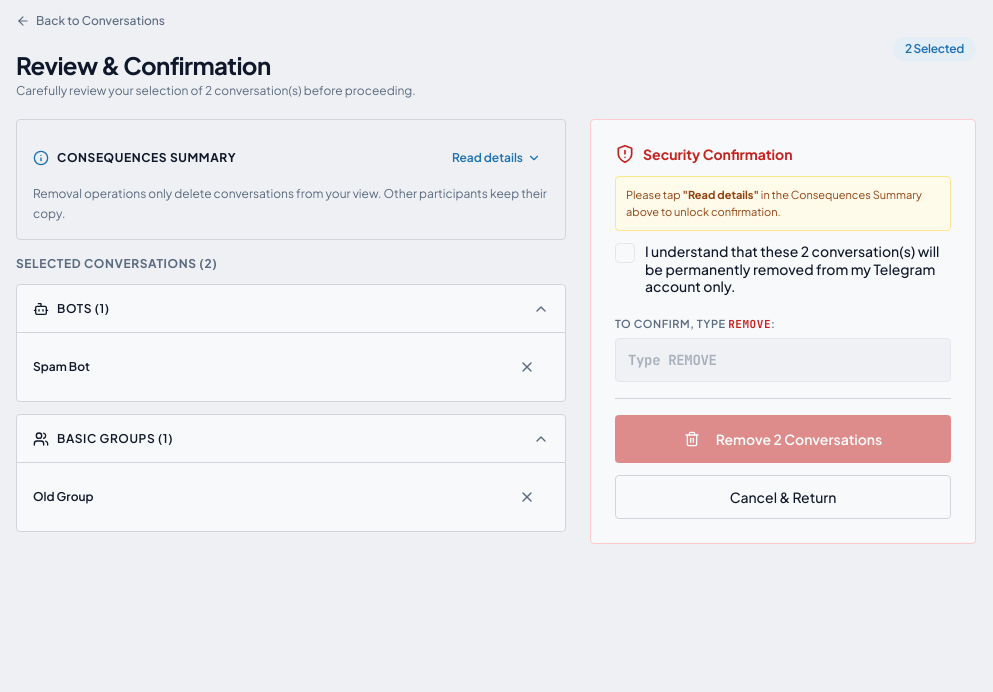
ReviewView Confirmation Gating › destructive removal button stays disabled until consequences details are read, checkbox checked, AND REMOVE text entered
The image size is (993, 692).
Expected: the button "Remove 2 Conversations" is disabled, [615,414,951,462]
# Click "Read details"
Click the button "Read details": [496, 158] box [444,136,549,180]
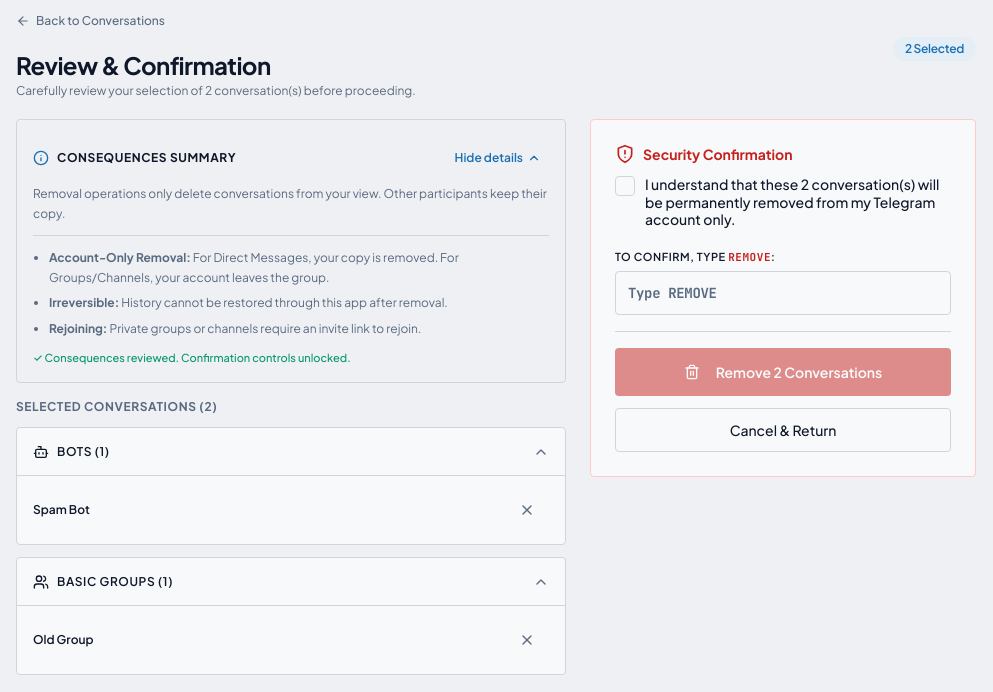
Now the checkbox is enabled
# Check only the checkbox
Click the checkbox: [625, 186] box [615,176,635,196]
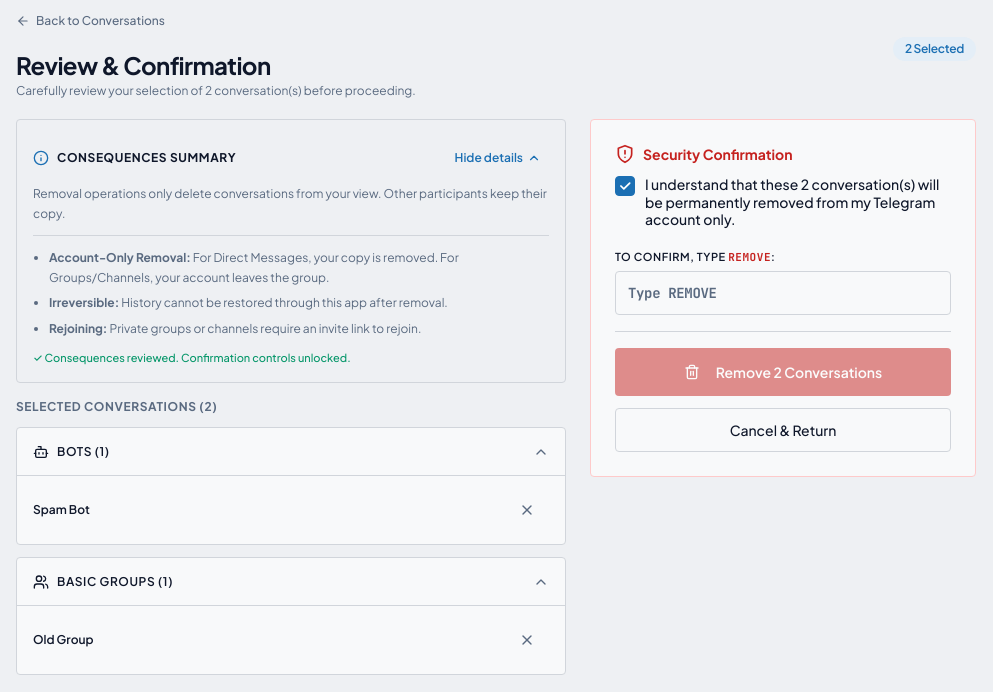
Expected: the button "Remove 2 Conversations" is disabled, [615,348,951,396]
# Type incorrect text
In the field with placeholder "type REMOVE": [783, 292] box [615,270,951,314], type "remove"
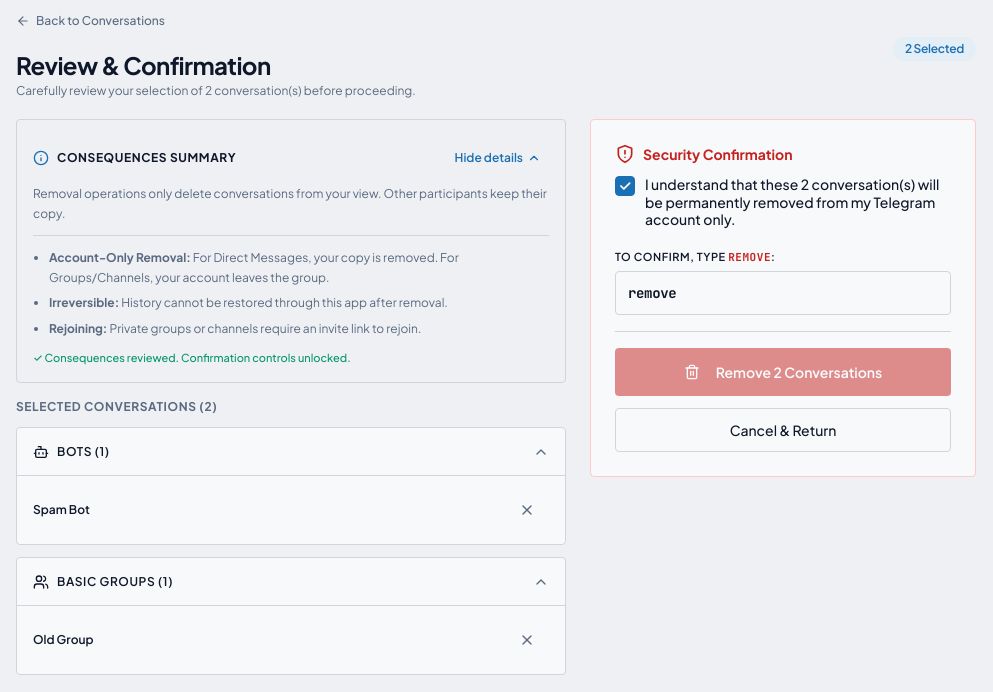
Expected: the button "Remove 2 Conversations" is disabled, [615,348,951,396]
# Type exact REMOVE
Replace the text in the field with placeholder "type REMOVE" with "REMOVE": [783, 292] box [615,270,951,314]
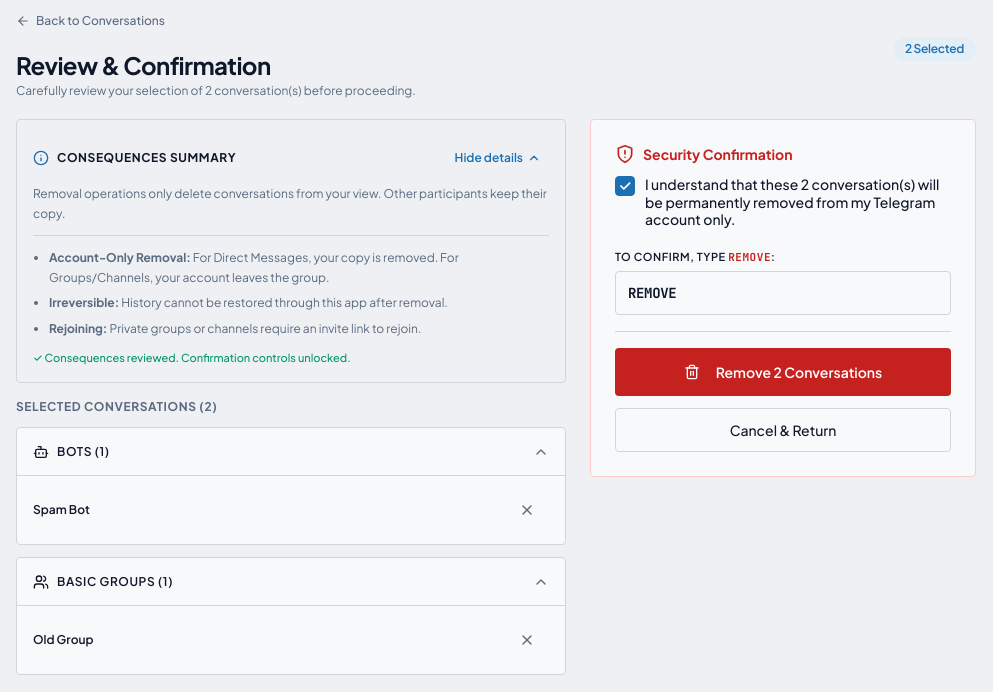
Now the button "Remove 2 Conversations" is enabled, box [615,348,951,396]
# Uncheck checkbox
Click the checkbox: [625, 186] box [615,176,635,196]
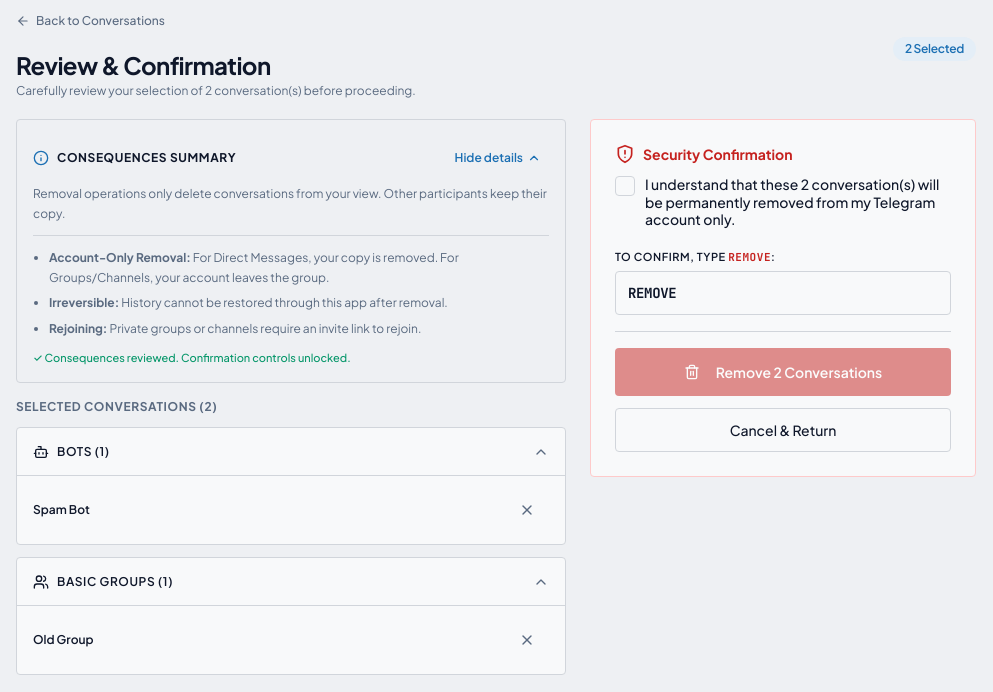
Now the button "Remove 2 Conversations" is disabled, box [615,348,951,396]
